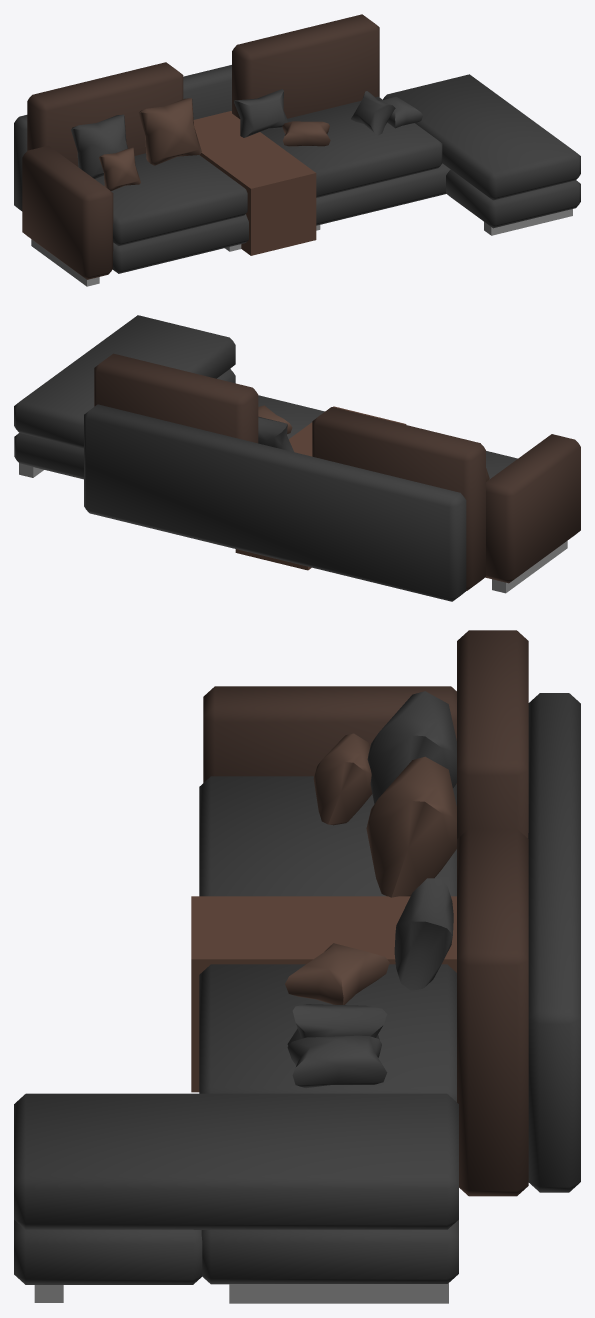
File: sofa002.glb
The picture shows the model from 3 angles, top to bottom: view 1: azimuth 30°, elevation 25°; view 2: azimuth 150°, elevation 25°; view 3: azimuth 270°, elevation 25°; orthographic projection. The views are drawn at different scales.
Visible parts, largest first — view 1: sofa.002; view 2: sofa.002; view 3: sofa.002.
Part boxes in pixels (bbox=[...]): sofa.002: bbox=[14, 14, 580, 286]; sofa.002: bbox=[14, 315, 580, 601]; sofa.002: bbox=[14, 630, 580, 1303].
Size of the model in its own units: 3.33 by 0.9486 by 1.83.
Materials: 1 (1 with a texture image).
